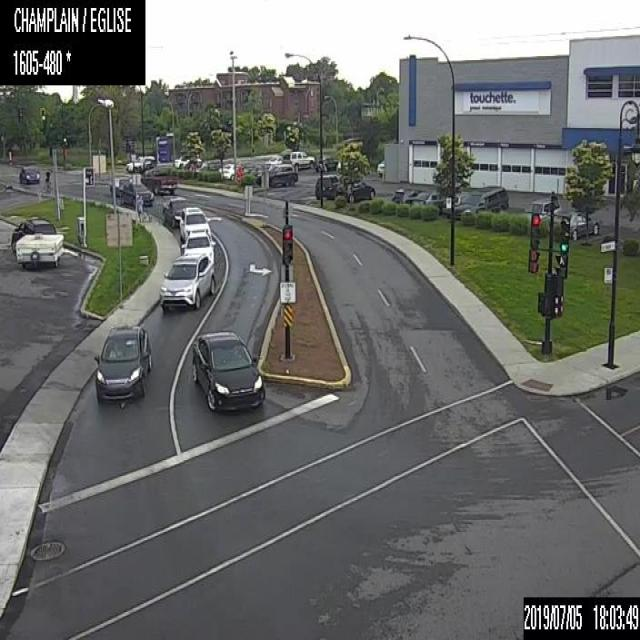pedestrian: (137, 193, 143, 220), (45, 168, 50, 187)
vehicle: (189, 328, 265, 413), (94, 322, 152, 402), (159, 252, 215, 311), (10, 216, 63, 265), (454, 184, 507, 218), (558, 209, 598, 240), (255, 162, 298, 187), (179, 205, 210, 238), (181, 231, 216, 259), (525, 193, 560, 220), (162, 195, 190, 228), (119, 180, 153, 206), (410, 192, 446, 216), (140, 170, 177, 193), (334, 180, 374, 200), (314, 173, 338, 199), (282, 150, 314, 168), (126, 154, 155, 171), (442, 190, 464, 212), (391, 188, 419, 204), (19, 164, 40, 184), (110, 176, 130, 196), (174, 154, 202, 167), (237, 160, 254, 180), (314, 154, 334, 170), (262, 153, 282, 168), (196, 160, 220, 172), (218, 162, 234, 179), (376, 158, 384, 178)
